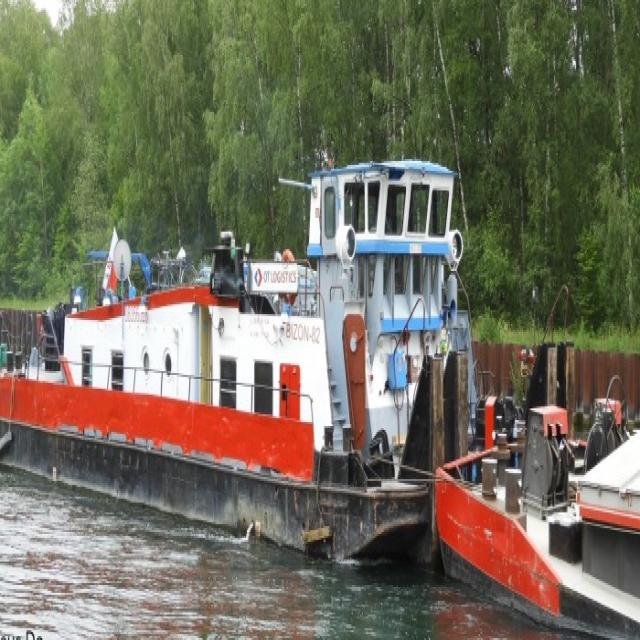tugboat: (1, 144, 583, 584)
